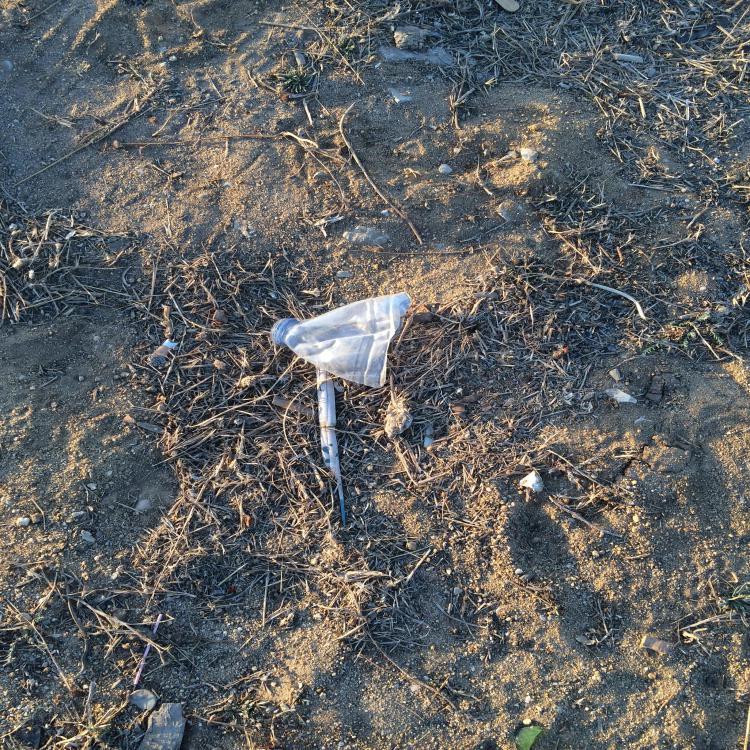Cigarette: (146, 338, 179, 361)
Clear plastic bottle: (270, 293, 412, 388)
Other plastic wrapper: (134, 614, 163, 684)
Unlabeled litter: (316, 366, 345, 526), (136, 703, 186, 750), (515, 725, 542, 750)
